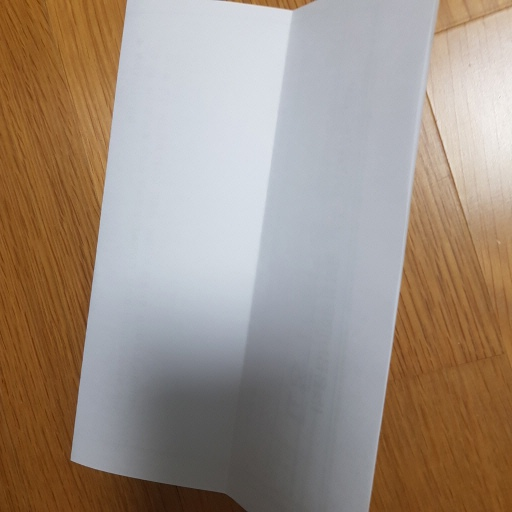Paper_3: (71, 1, 438, 512)
